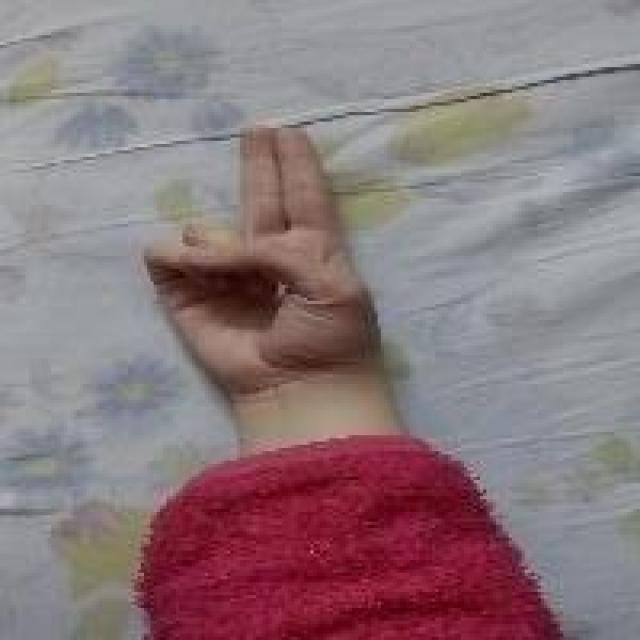U: (142, 115, 389, 384)
